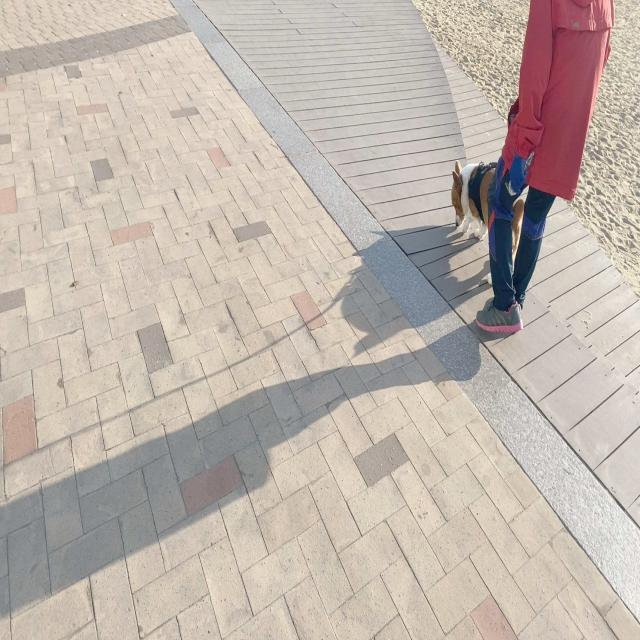Leashed_Dog: (451, 98, 524, 284)
